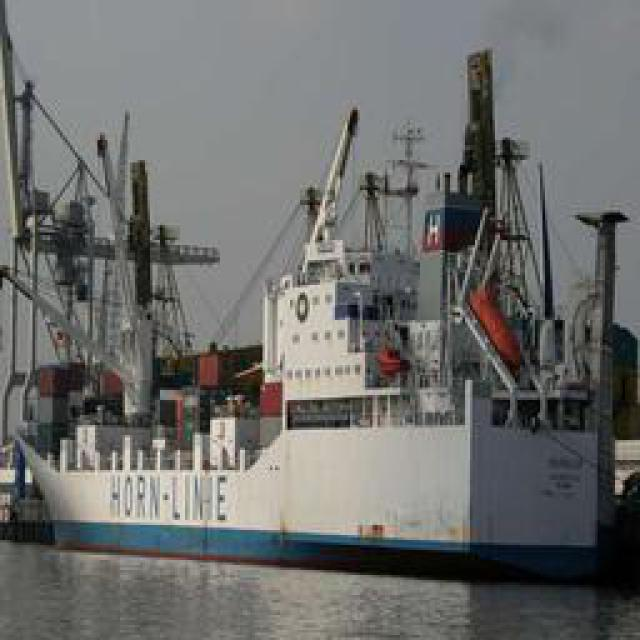Ship: (99, 62, 622, 590)
